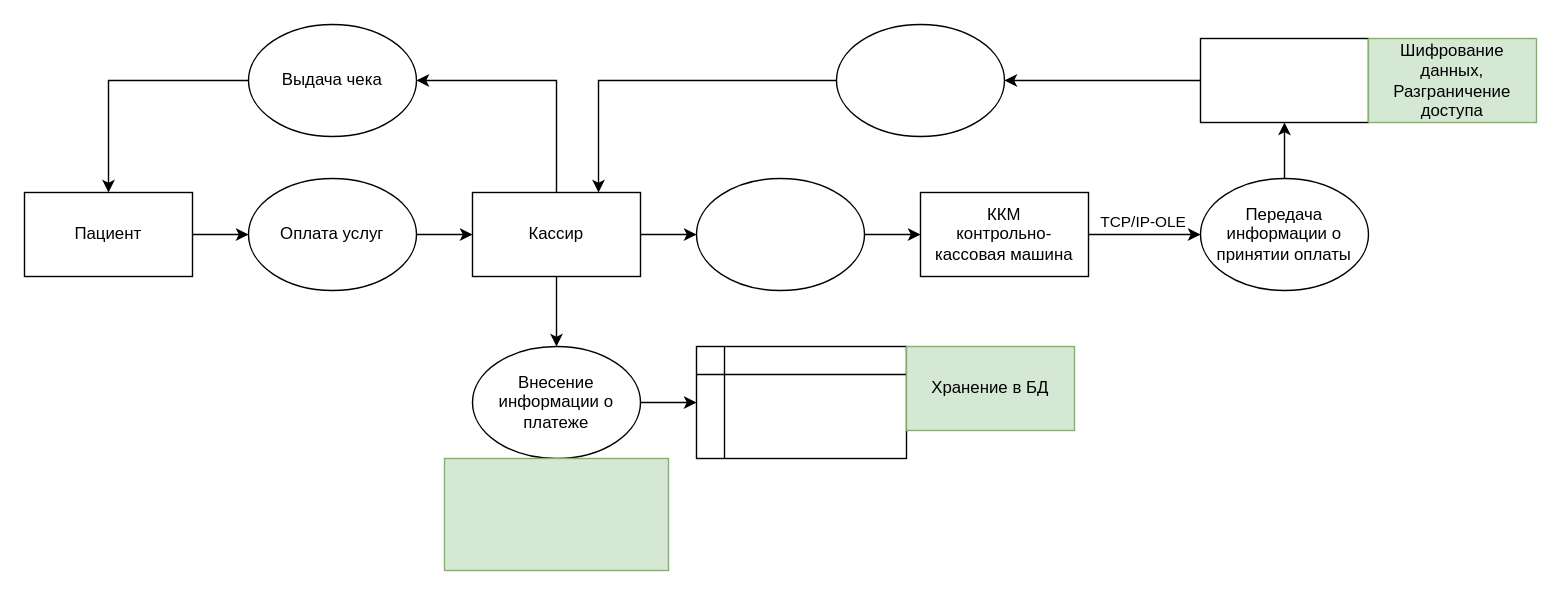
The diagram is 1561 pixels wide and 595 high, and some of its shapes have lost their labels. Here are the shapes that lost their labels. From the top down, the box of each, then its label:
(835, 23, 1004, 136): Подтверждение выполненного платежа
(1199, 37, 1368, 122): 1С Бухгалтерия (файловый режим)
(695, 177, 864, 290): Принятие оплаты
(695, 345, 906, 458): Журнал платежей Excel
(443, 457, 668, 570): Авторизованный пользователь, Ввод через UI-форму, Шифрование потоков данных
